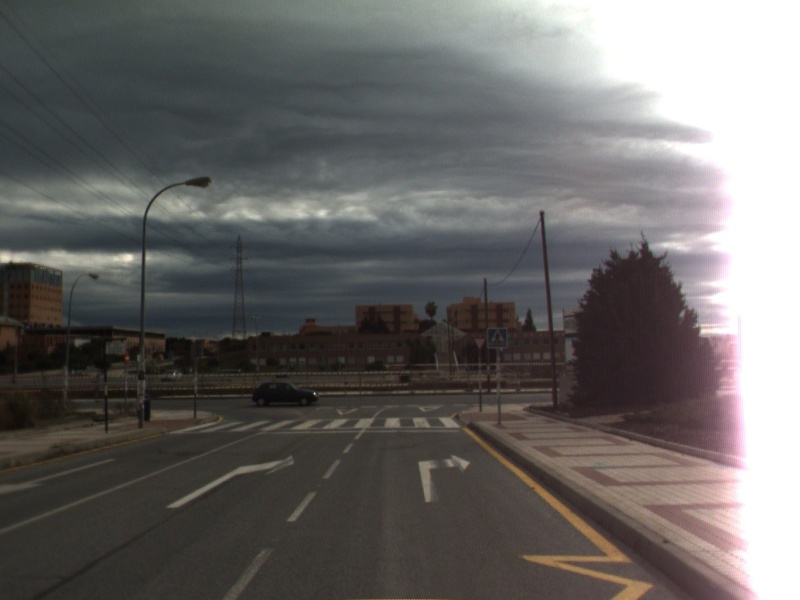RIGHT: (164, 453, 296, 510), (416, 452, 472, 504)
